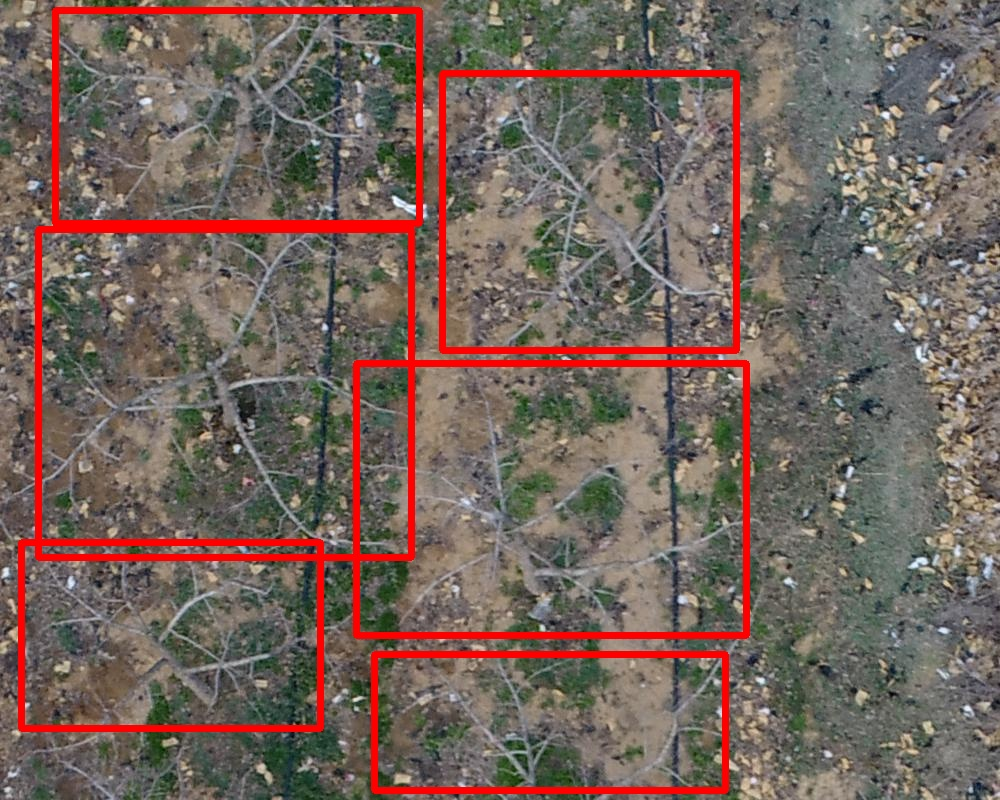apple: (38, 229, 411, 557), (356, 363, 746, 635), (442, 73, 736, 350), (55, 10, 419, 223), (21, 542, 320, 728), (374, 654, 725, 790)
